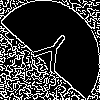Y: (25, 25, 76, 81)
